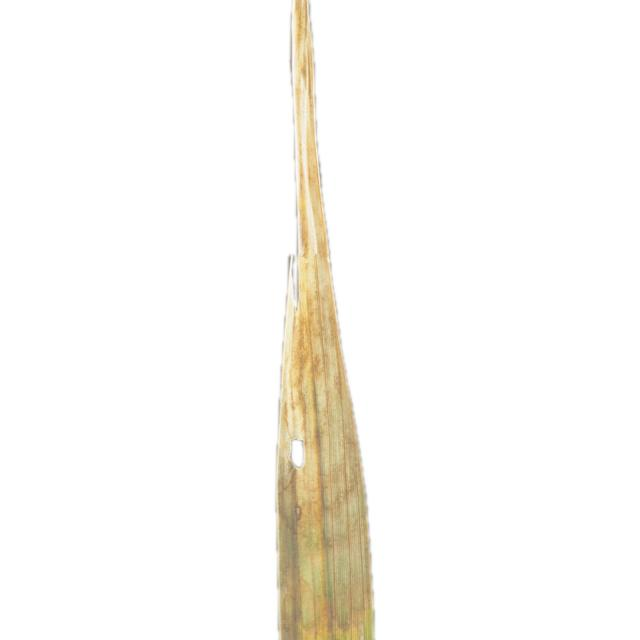Leaf scald: (200, 0, 474, 640)
